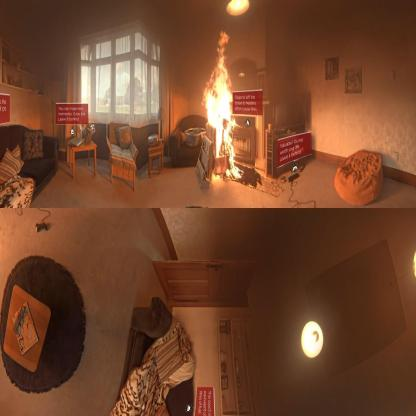fire: (204, 30, 243, 181)
